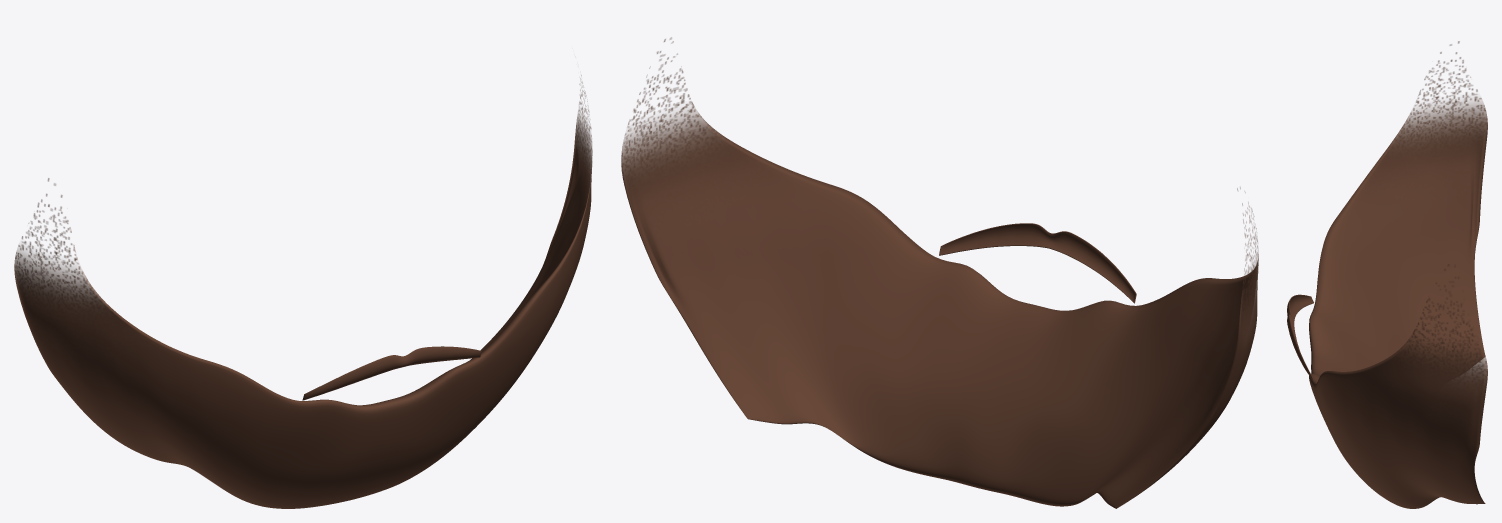
Rendered from Masculine-groom-full.glb.
3 views of the same model, side by side, from view 1: azimuth 30°, elevation 25°; view 2: azimuth 150°, elevation 25°; view 3: azimuth 270°, elevation 25° (orthographic). The views are drawn at different scales.
Parts seen in each view (by area): view 1: Groom / full rounded body186, Groom / shared mustache185; view 2: Groom / full rounded body186, Groom / shared mustache185; view 3: Groom / full rounded body186, Groom / shared mustache185.
Part boxes in pixels (left/top/right/bottom): Groom / full rounded body186: left=14, top=75, right=592, bottom=508; Groom / shared mustache185: left=302, top=346, right=481, bottom=400; Groom / full rounded body186: left=621, top=37, right=1258, bottom=508; Groom / shared mustache185: left=939, top=223, right=1136, bottom=303; Groom / full rounded body186: left=1309, top=41, right=1487, bottom=508; Groom / shared mustache185: left=1287, top=294, right=1313, bottom=380.
Size of the model in its own units: 0.9509 by 0.6404 by 0.3265.
Materials: 2 (1 with a texture image).
